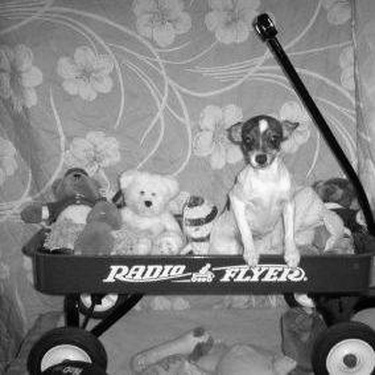dog: (209, 106, 308, 271), (22, 160, 105, 258), (113, 166, 184, 263), (303, 160, 370, 262), (79, 195, 126, 268)
